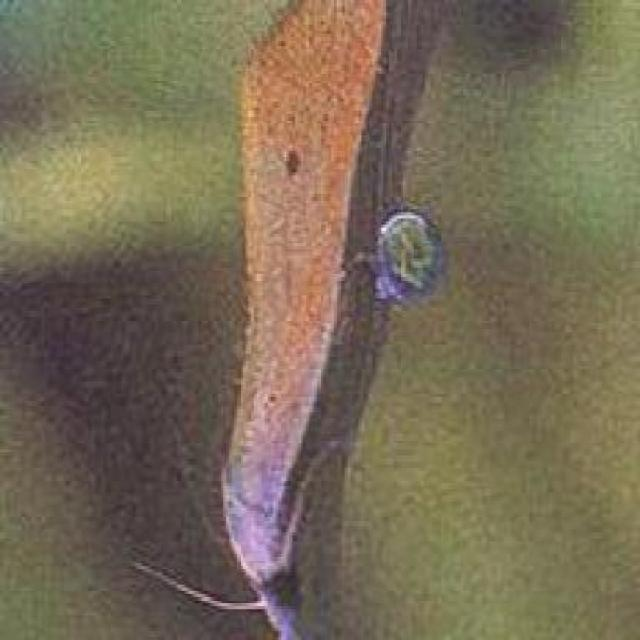stem-borer: (205, 0, 372, 640)
